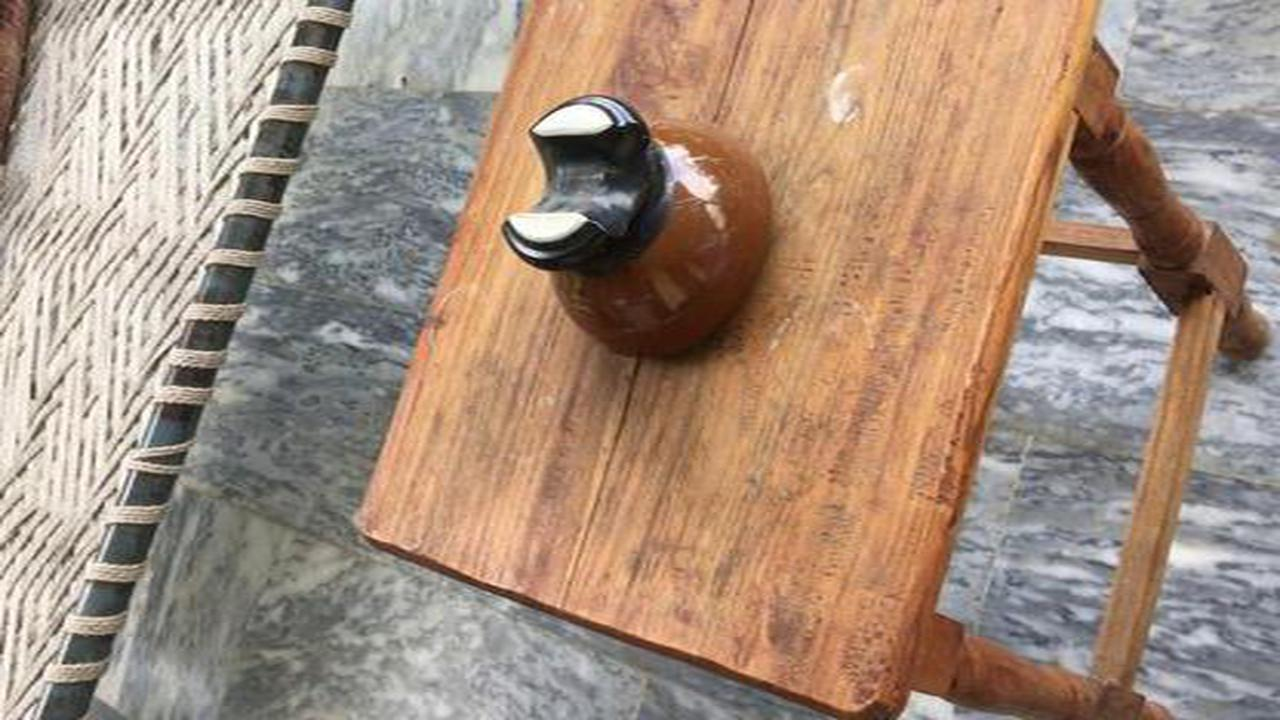insulator_pin: (484, 84, 801, 380)
